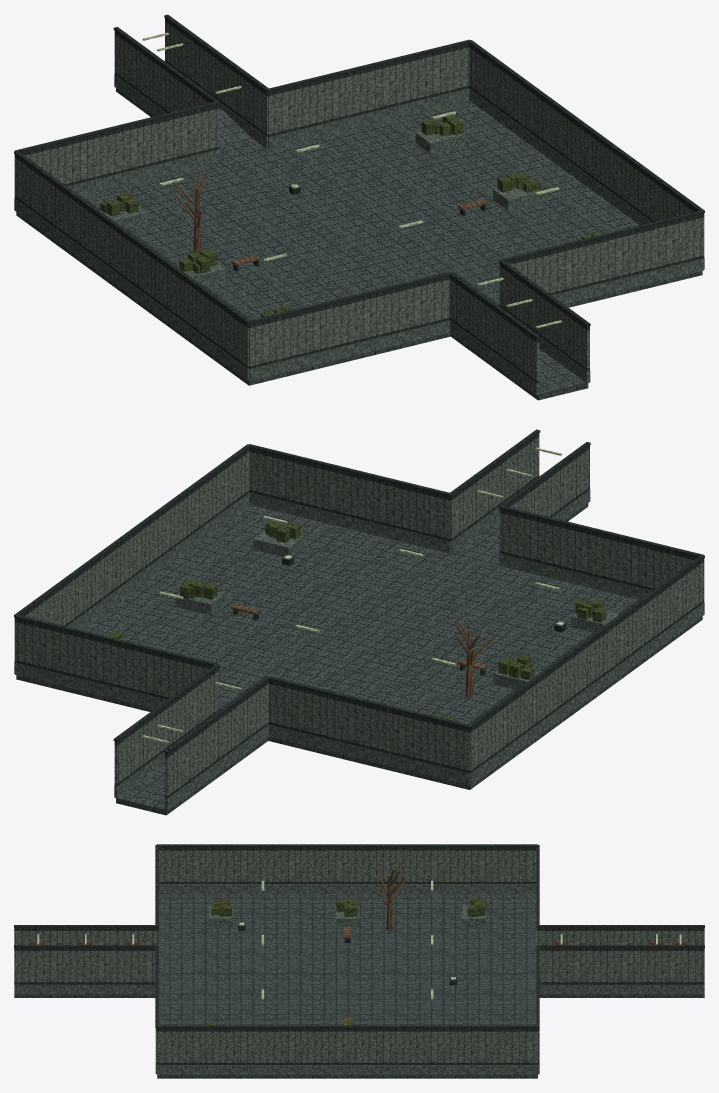
Rendered from FERI_Route_B.fbx.
The picture shows the model from 3 angles, top to bottom: view 1: azimuth 30°, elevation 25°; view 2: azimuth 150°, elevation 25°; view 3: azimuth 270°, elevation 25°; orthographic projection. The views are drawn at different scales.
Parts seen in each view (by area): view 1: PL_Route_B_Wall, PL_Route_B_Floor, PL_Route_B_Concrete, PL_Route_B_Iron, PL_Route_B_Leaf, PL_Route_B_Wood, PL_Route_B_Tube; view 2: PL_Route_B_Wall, PL_Route_B_Floor, PL_Route_B_Concrete, PL_Route_B_Iron, PL_Route_B_Leaf, PL_Route_B_Wood, PL_Route_B_Tube; view 3: PL_Route_B_Floor, PL_Route_B_Wall, PL_Route_B_Concrete, PL_Route_B_Iron, PL_Route_B_Leaf, PL_Route_B_Wood, PL_Route_B_Tube.
Boxes of the visible parts, x1,y1,x2,y2 form: PL_Route_B_Wall: [14, 18, 704, 383]; PL_Route_B_Floor: [16, 88, 702, 400]; PL_Route_B_Concrete: [14, 75, 704, 395]; PL_Route_B_Iron: [14, 14, 704, 338]; PL_Route_B_Leaf: [100, 114, 602, 317]; PL_Route_B_Wood: [173, 168, 487, 265]; PL_Route_B_Tube: [142, 32, 561, 328]; PL_Route_B_Wall: [14, 433, 704, 798]; PL_Route_B_Floor: [16, 503, 702, 815]; PL_Route_B_Concrete: [14, 490, 704, 810]; PL_Route_B_Iron: [14, 429, 704, 753]; PL_Route_B_Leaf: [106, 520, 606, 721]; PL_Route_B_Wood: [231, 603, 497, 697]; PL_Route_B_Tube: [142, 447, 564, 743]; PL_Route_B_Floor: [14, 894, 704, 1078]; PL_Route_B_Wall: [14, 847, 704, 1064]; PL_Route_B_Concrete: [14, 884, 704, 1074]; PL_Route_B_Iron: [14, 844, 704, 1028]; PL_Route_B_Leaf: [208, 897, 486, 1025]; PL_Route_B_Wood: [30, 864, 688, 1025]; PL_Route_B_Tube: [37, 880, 681, 999].
Bounding box in the file's own units: 36.3 × 6.53 × 58.08.
8 materials, 8 textured.
